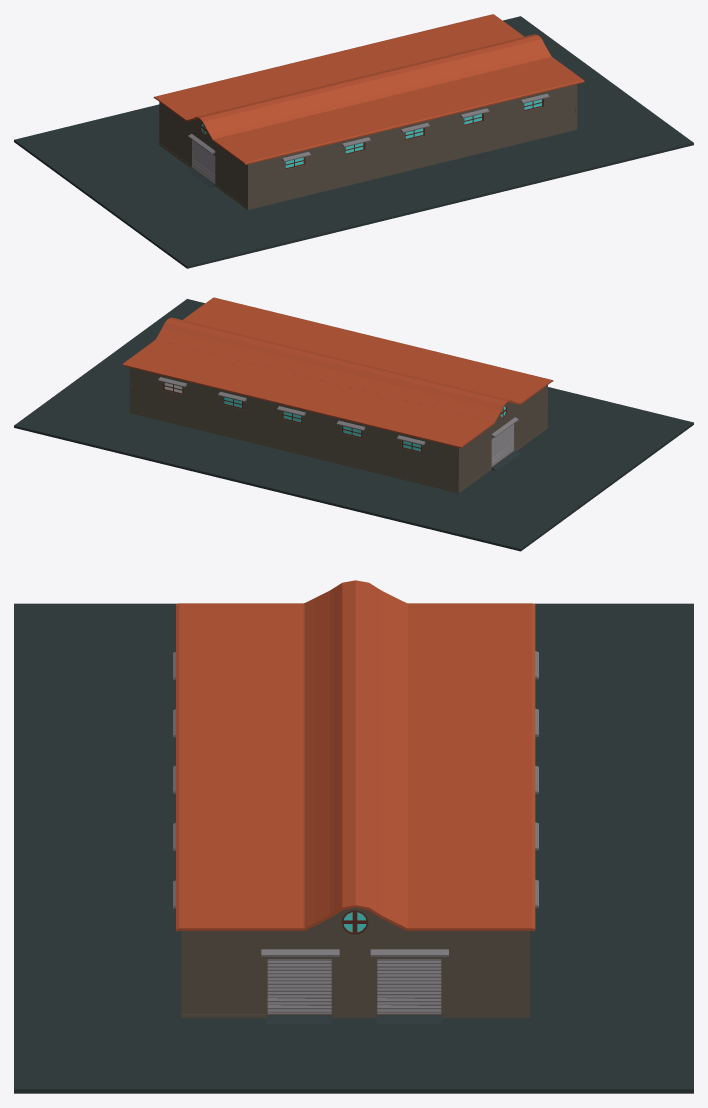
Rendered from bodegadeffbx.fbx.
3 renders of one model, top to bottom at view 1: azimuth 30°, elevation 25°; view 2: azimuth 150°, elevation 25°; view 3: azimuth 270°, elevation 25°, orthographic. The views are drawn at different scales.
Visible parts, largest first — view 1: CONCRETO, techounido, bodegabase, puertadeatras; view 2: CONCRETO, techounido, bodegabase, puertadeatras; view 3: CONCRETO, techounido, bodegabase, puertametalderecha, puertametalizquierda.
Part boxes in pixels (x1,y1,x2,y2): CONCRETO: [14, 16, 693, 268]; techounido: [153, 14, 584, 164]; bodegabase: [159, 84, 577, 209]; puertadeatras: [192, 140, 215, 182]; CONCRETO: [14, 299, 693, 551]; techounido: [122, 297, 553, 448]; bodegabase: [129, 367, 547, 493]; puertadeatras: [491, 424, 514, 466]; CONCRETO: [14, 603, 693, 1093]; techounido: [176, 580, 535, 931]; bodegabase: [181, 907, 530, 1018]; puertametalderecha: [377, 959, 441, 1013]; puertametalizquierda: [267, 959, 331, 1013].
Size of the model in its own units: 25562 by 3022 by 15126.
